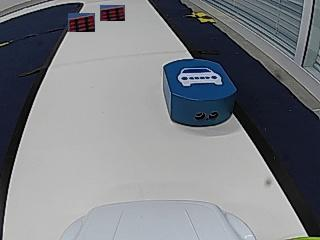safety: (178, 66, 224, 87)
